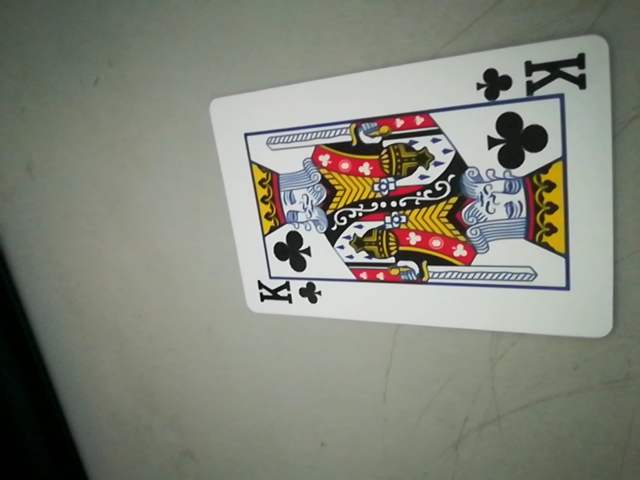mh k: (474, 52, 594, 104), (251, 276, 325, 315)
